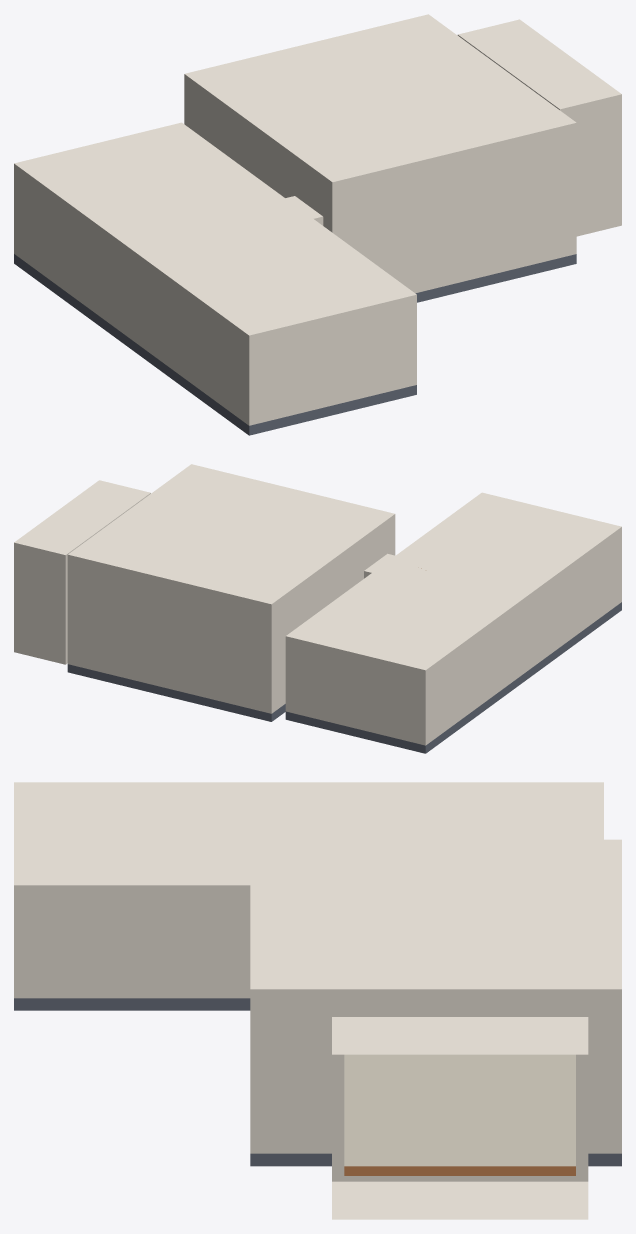
The model's file is Room_1.FBX.
The picture shows the model from 3 angles, top to bottom: view 1: azimuth 30°, elevation 25°; view 2: azimuth 150°, elevation 25°; view 3: azimuth 270°, elevation 25°; orthographic projection. The views are drawn at different scales.
Parts seen in each view (by area): view 1: Box004; view 2: Box004; view 3: Box004.
Boxes of the visible parts, bbox=[...] form: Box004: bbox=[14, 14, 621, 435]; Box004: bbox=[14, 464, 621, 753]; Box004: bbox=[14, 782, 621, 1219].
Bounding box in the file's own units: 382 × 107 × 321.
Materials: 1 (1 with a texture image).
